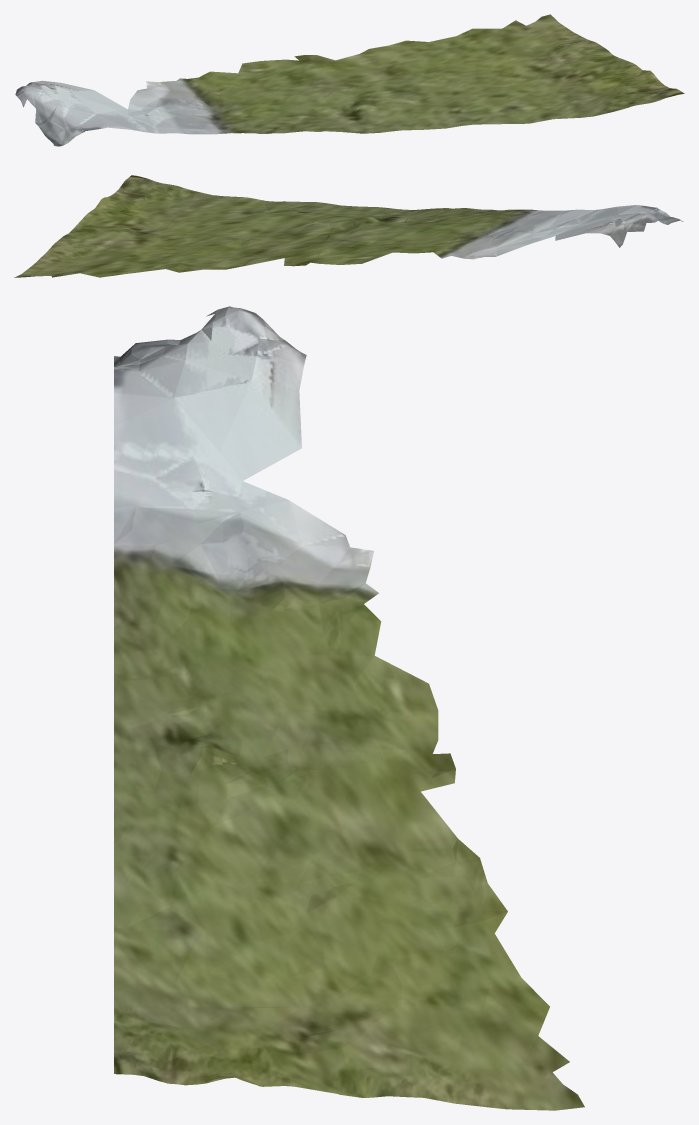
3 views of the same model, one above another, from view 1: azimuth 30°, elevation 25°; view 2: azimuth 150°, elevation 25°; view 3: azimuth 270°, elevation 25° (orthographic). The views are drawn at different scales.
Size of the model in its own units: 2.87 by 0.6607 by 1.05.
1 material, 1 textured.
